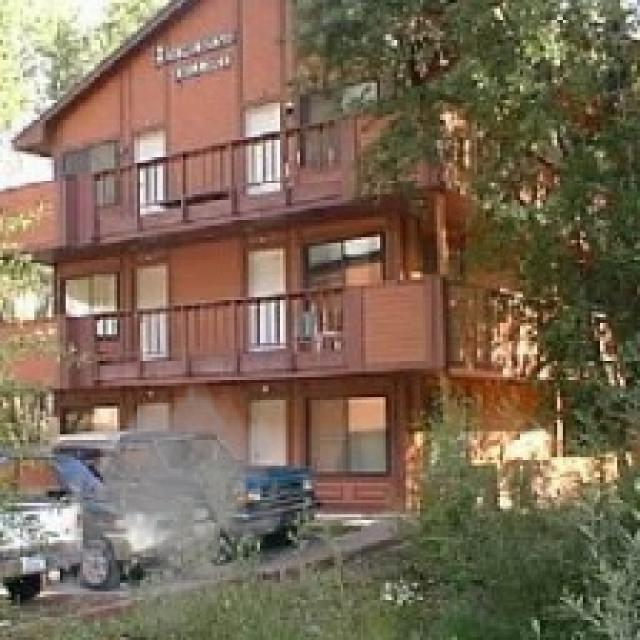Smoke: (54, 377, 300, 637)
